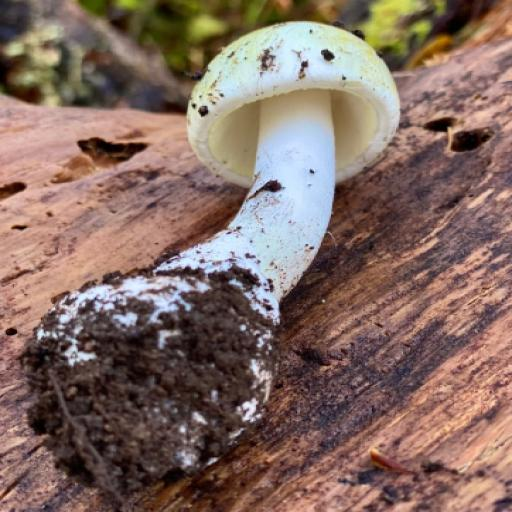mushroom: (182, 17, 404, 189), (221, 78, 357, 299)
